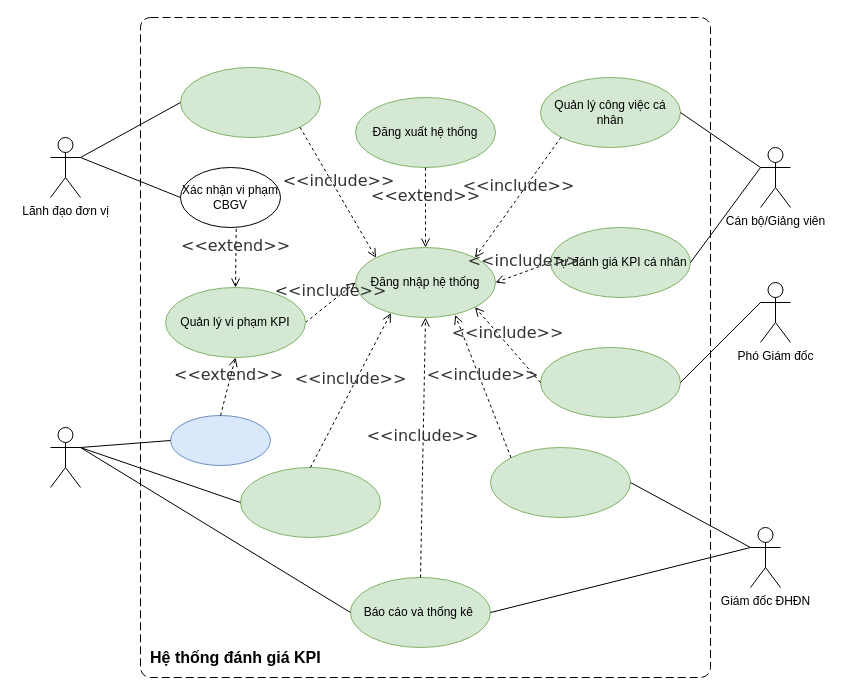
This 842x695 diagram has some shape labels left out. Each missing label, with the centre of its shape:
Phê duyệt tổng thể kết quả đánh giá: pixel 560 482
Quản lý dữ liệu vi phạm KPI: pixel 220 440
Quản lý kỳ đánh giá KPI: pixel 310 502
Quản lý xét duyệt kết quả đánh giá CBGV: pixel 250 102
Quản lý đánh giá lãnh đạo đơn vị: pixel 610 382
Quản trị hệ thống/ Ban TCCB: pixel 65 457
